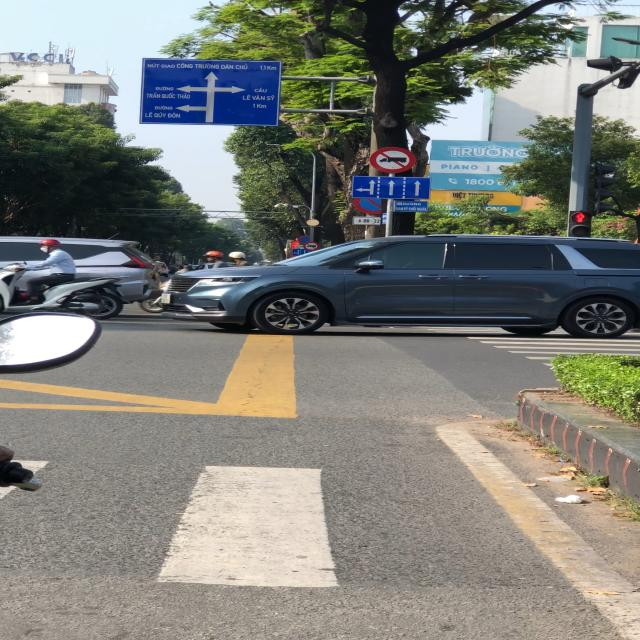Bien bao cam xe so-mi ro-mooc: (367, 145, 419, 176), (302, 240, 321, 251)
